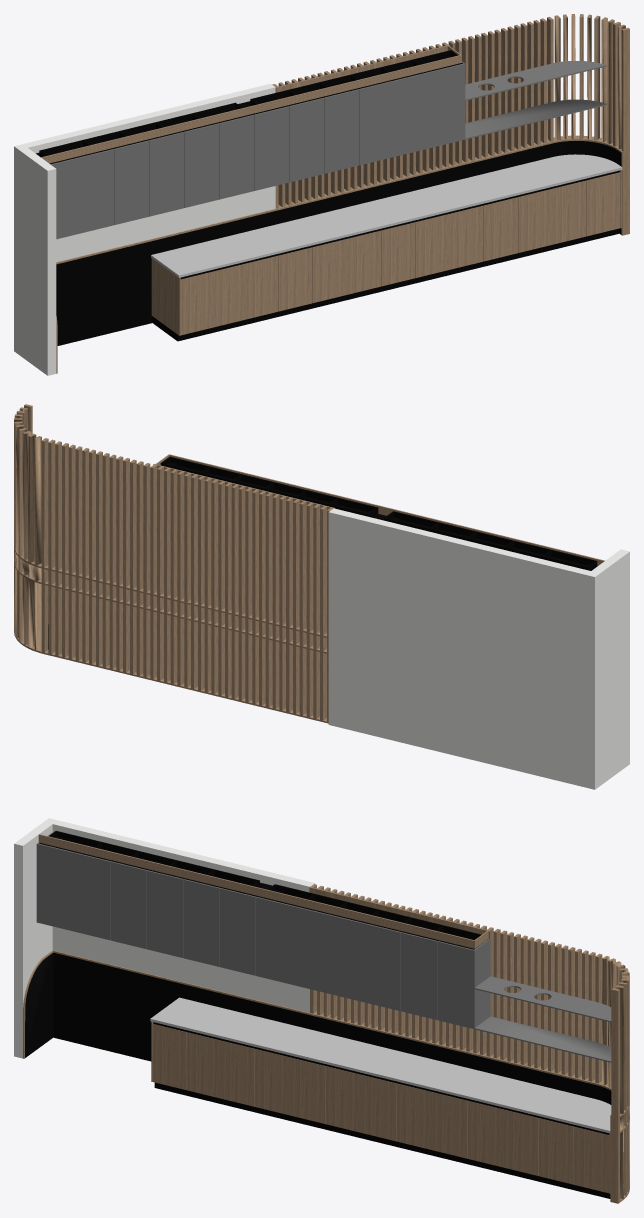
File: EB_Managers.glb
The picture shows the model from 3 angles, top to bottom: view 1: azimuth 30°, elevation 25°; view 2: azimuth 150°, elevation 25°; view 3: azimuth 330°, elevation 25°; orthographic projection. The views are drawn at different scales.
Visible parts, largest first — view 1: Managers; view 2: Managers; view 3: Managers.
Boxes of the visible parts, x1=… form: Managers: x1=14, y1=14, x2=629, y2=375; Managers: x1=14, y1=404, x2=629, y2=789; Managers: x1=14, y1=818, x2=629, y2=1203.
Bounding box in the file's own units: 8.03 × 2.7 × 0.805.
Materials: 6 (2 with a texture image).
